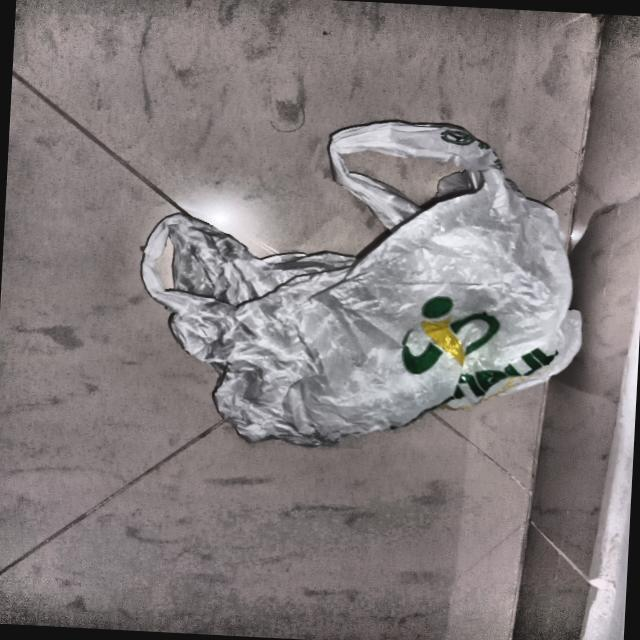plastic bag: (128, 106, 596, 463)
